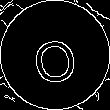O_N: (28, 25, 82, 85)
